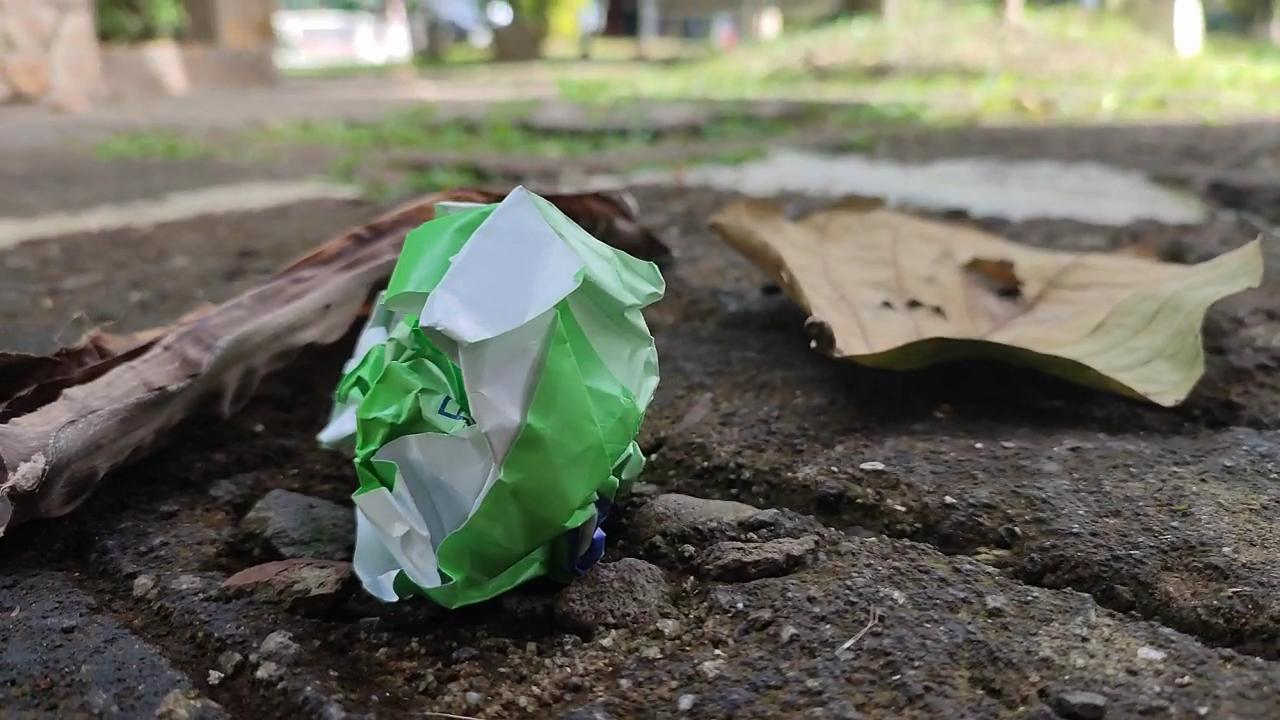Paper: (327, 183, 671, 616)
